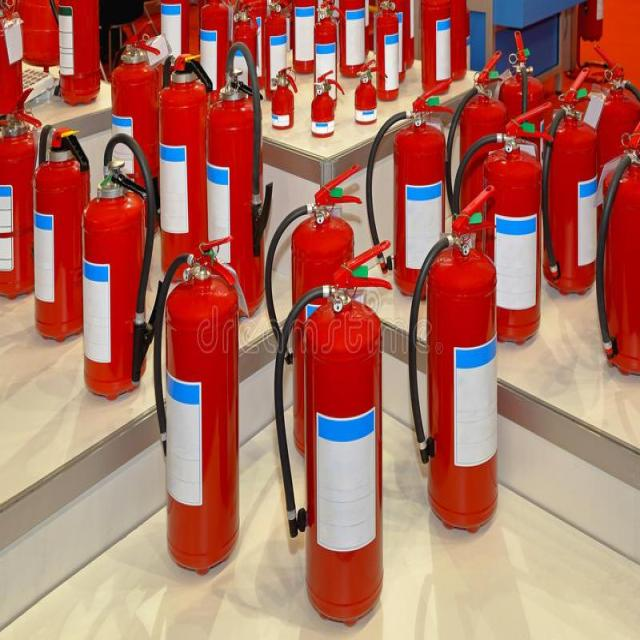fire_extinguisher: (269, 234, 399, 628), (403, 178, 503, 536), (258, 155, 373, 466), (150, 226, 246, 580), (446, 98, 560, 346), (74, 122, 160, 402), (359, 76, 457, 304), (442, 43, 523, 280), (202, 34, 267, 320), (536, 59, 612, 298), (580, 35, 639, 301), (29, 119, 96, 343), (493, 21, 557, 244), (156, 49, 214, 286), (588, 125, 639, 382), (109, 21, 168, 234), (0, 80, 42, 301), (53, 0, 104, 112), (194, 0, 233, 113), (229, 1, 262, 124), (259, 0, 297, 103), (153, 0, 194, 95), (310, 0, 346, 107), (416, 0, 454, 96), (0, 0, 28, 120), (352, 44, 392, 127), (372, 0, 402, 100), (309, 63, 347, 140), (336, 0, 367, 78), (288, 1, 320, 74), (268, 59, 300, 130)
